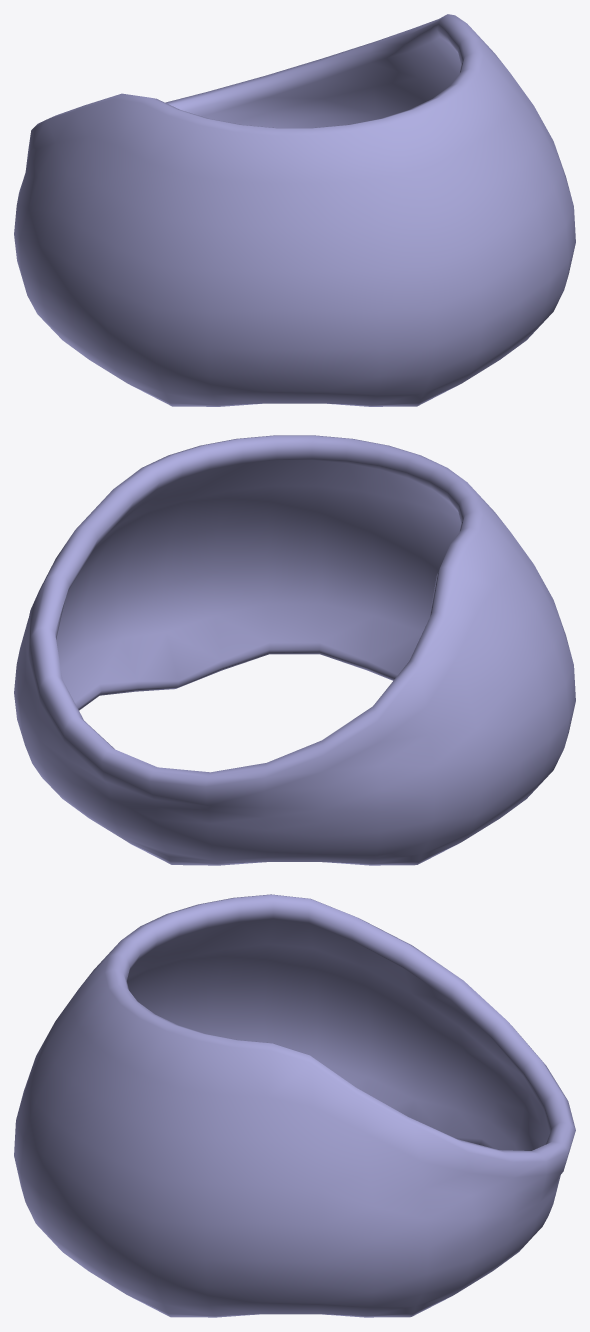
File: Ghostly_Armor.glb
3 views of the same model, one above another, from view 1: azimuth 30°, elevation 25°; view 2: azimuth 150°, elevation 25°; view 3: azimuth 270°, elevation 25° (orthographic).
Parts seen in each view (by area): view 1: Ghostly_Armor; view 2: Ghostly_Armor; view 3: Ghostly_Armor.
Boxes of the visible parts, box(x1,y1,x2,y2) form: Ghostly_Armor: box(14, 14, 575, 406); Ghostly_Armor: box(14, 435, 575, 865); Ghostly_Armor: box(14, 894, 575, 1317).
Size of the model in its own units: 1.37 by 0.7188 by 1.4.
